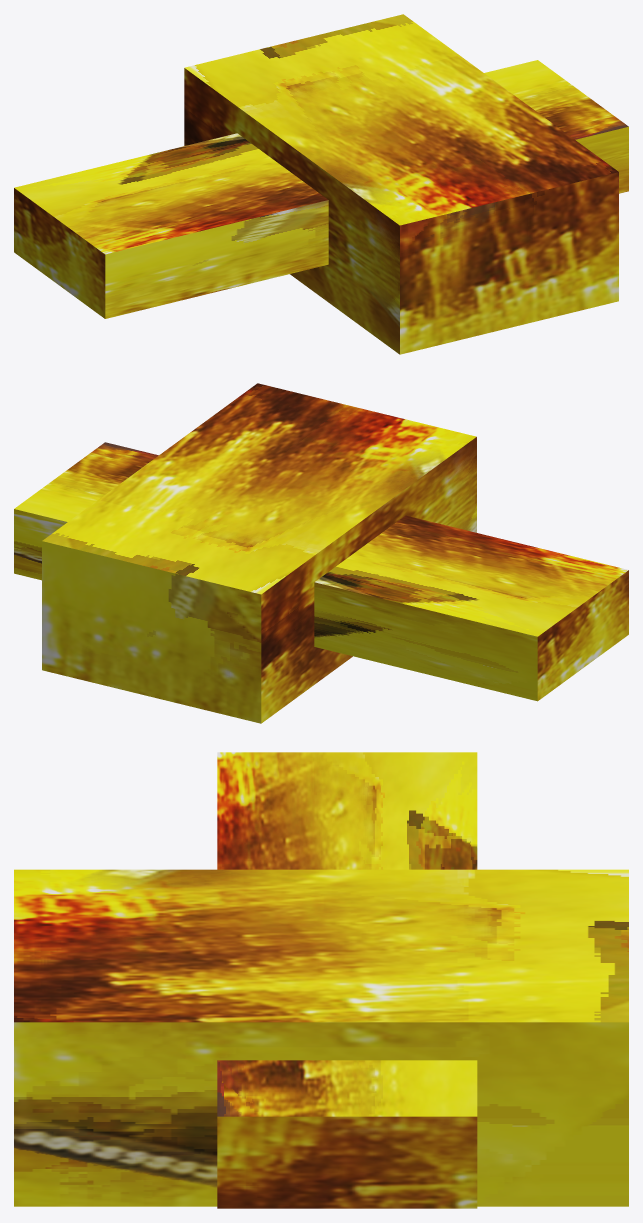
The model's file is cube_bloom.obj.
3 renders of one model, top to bottom at view 1: azimuth 30°, elevation 25°; view 2: azimuth 150°, elevation 25°; view 3: azimuth 270°, elevation 25°, orthographic. The views are drawn at different scales.
Visible parts, largest first — view 1: Box001, Box002; view 2: Box001, Box002; view 3: Box001, Box002.
Boxes of the visible parts, x1,y1,x2,y2 form: Box001: (184, 14, 618, 354); Box002: (14, 60, 628, 318); Box001: (42, 383, 476, 723); Box002: (14, 442, 628, 701); Box001: (14, 869, 628, 1206); Box002: (217, 752, 477, 1208).
Size of the model in its own units: 84.85 by 20 by 60.5.
Materials: 2 (2 with a texture image).
